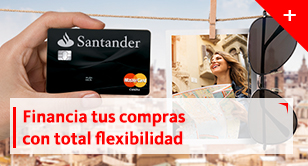tarjeta: (46, 27, 151, 96)
